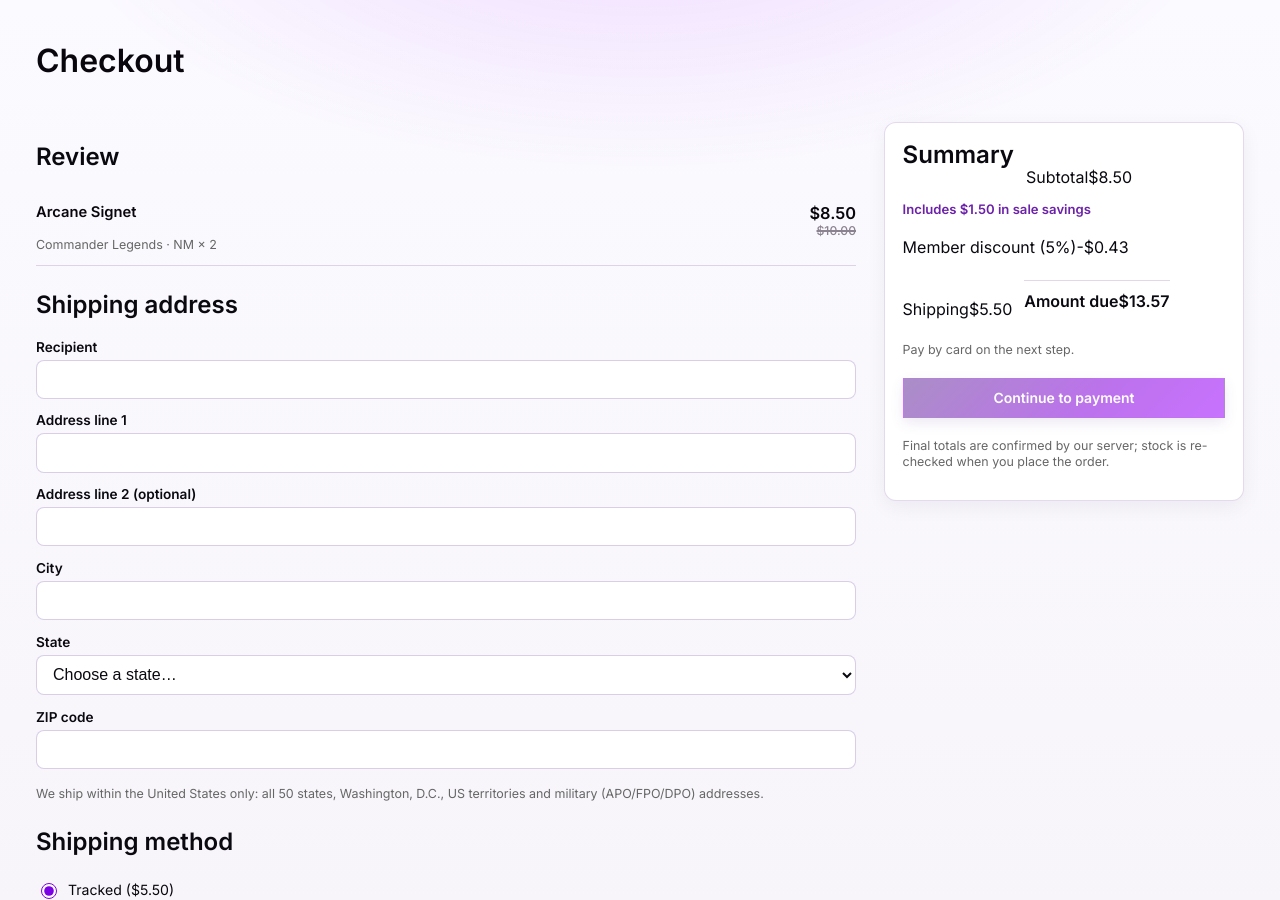
Test: checkout during a storewide sale › speaks up again if the sale deepens while they pay
Type "Jordan Vega" into the field labelled "Recipient".
click(446, 379); type("Jordan Vega")  # box 36,360 -> 856,399
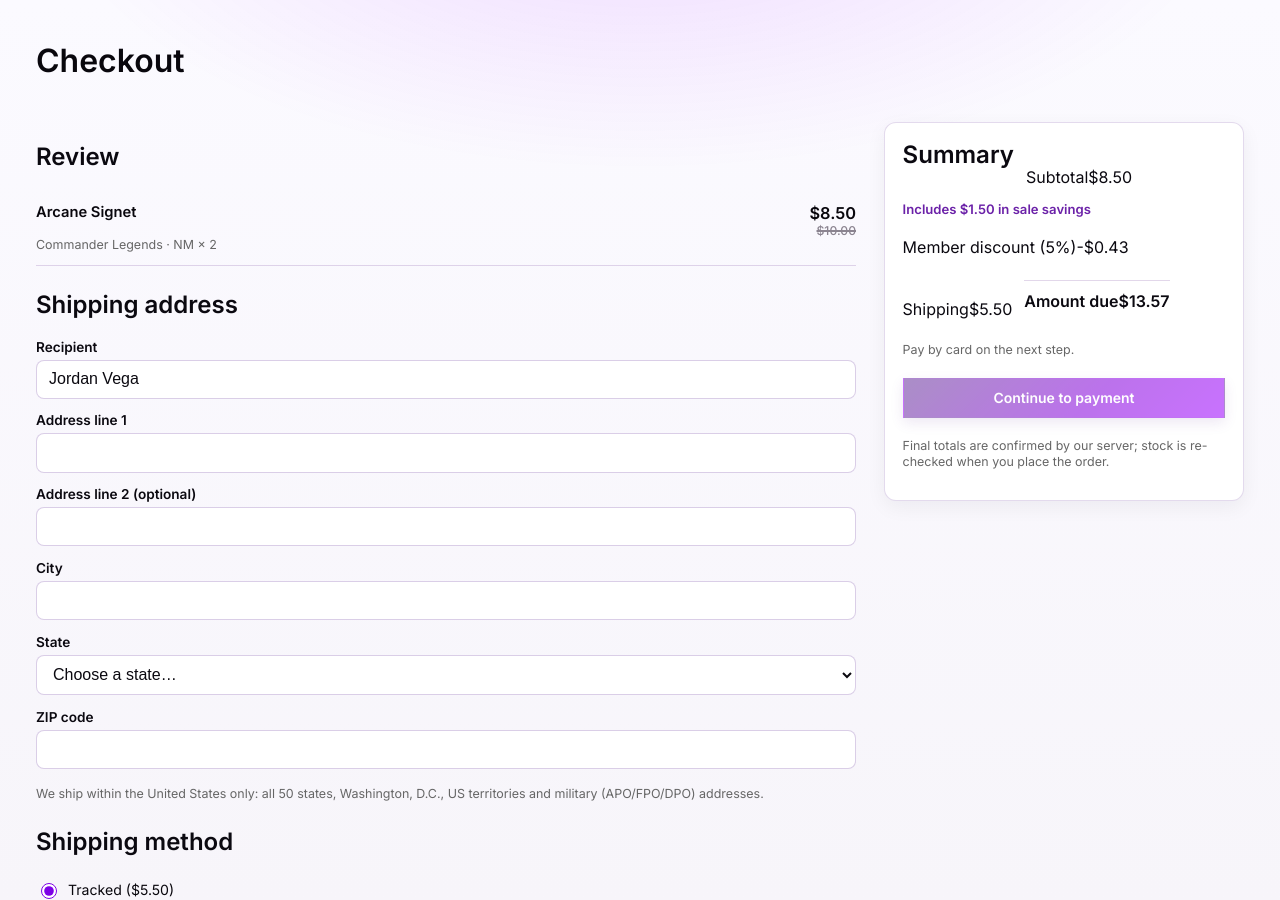
Type "123 Main St" into the field labelled "Address line 1".
click(446, 453); type("123 Main St")  # box 36,433 -> 856,473
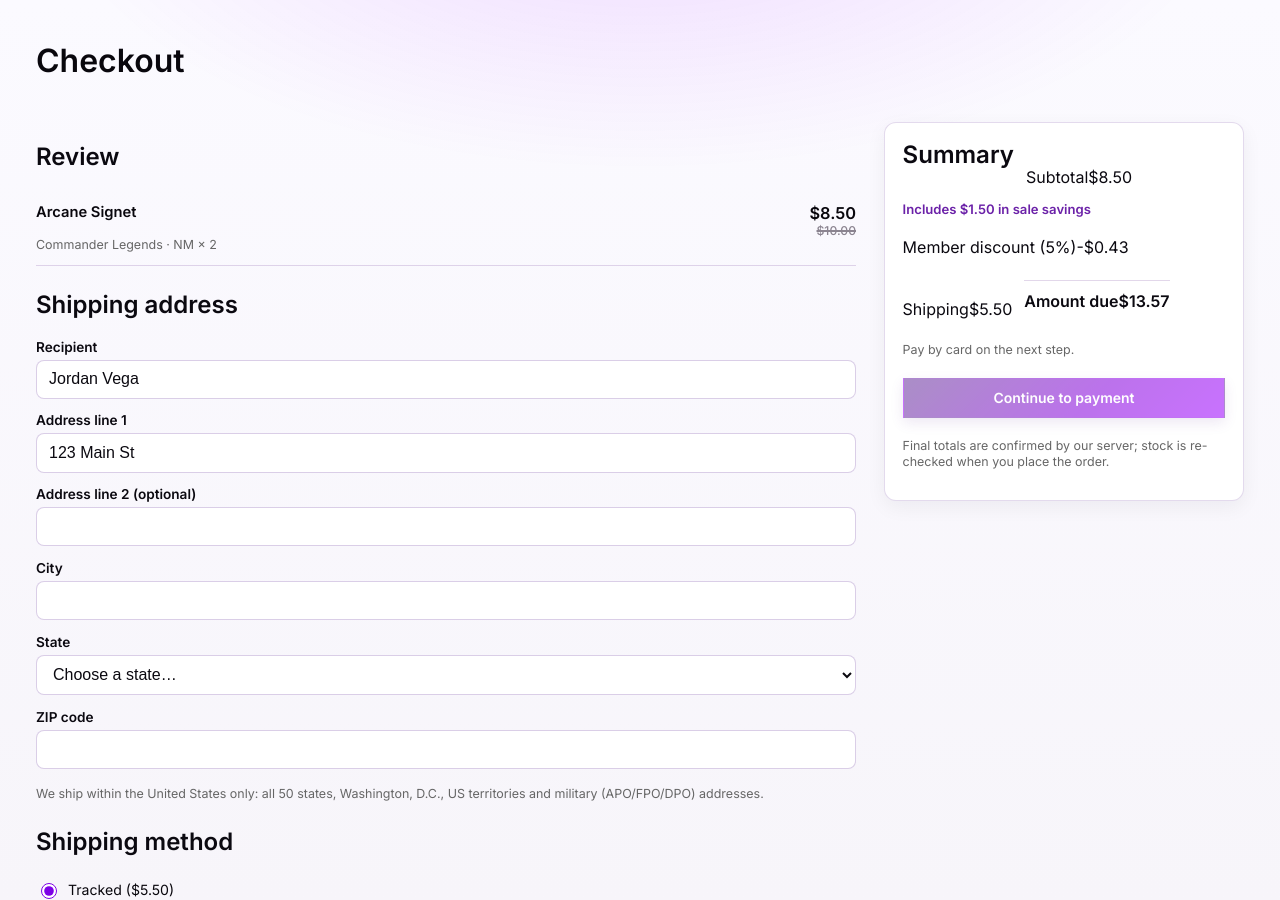
Type "Ballwin" into the field labelled "City".
click(446, 601); type("Ballwin")  # box 36,581 -> 856,620
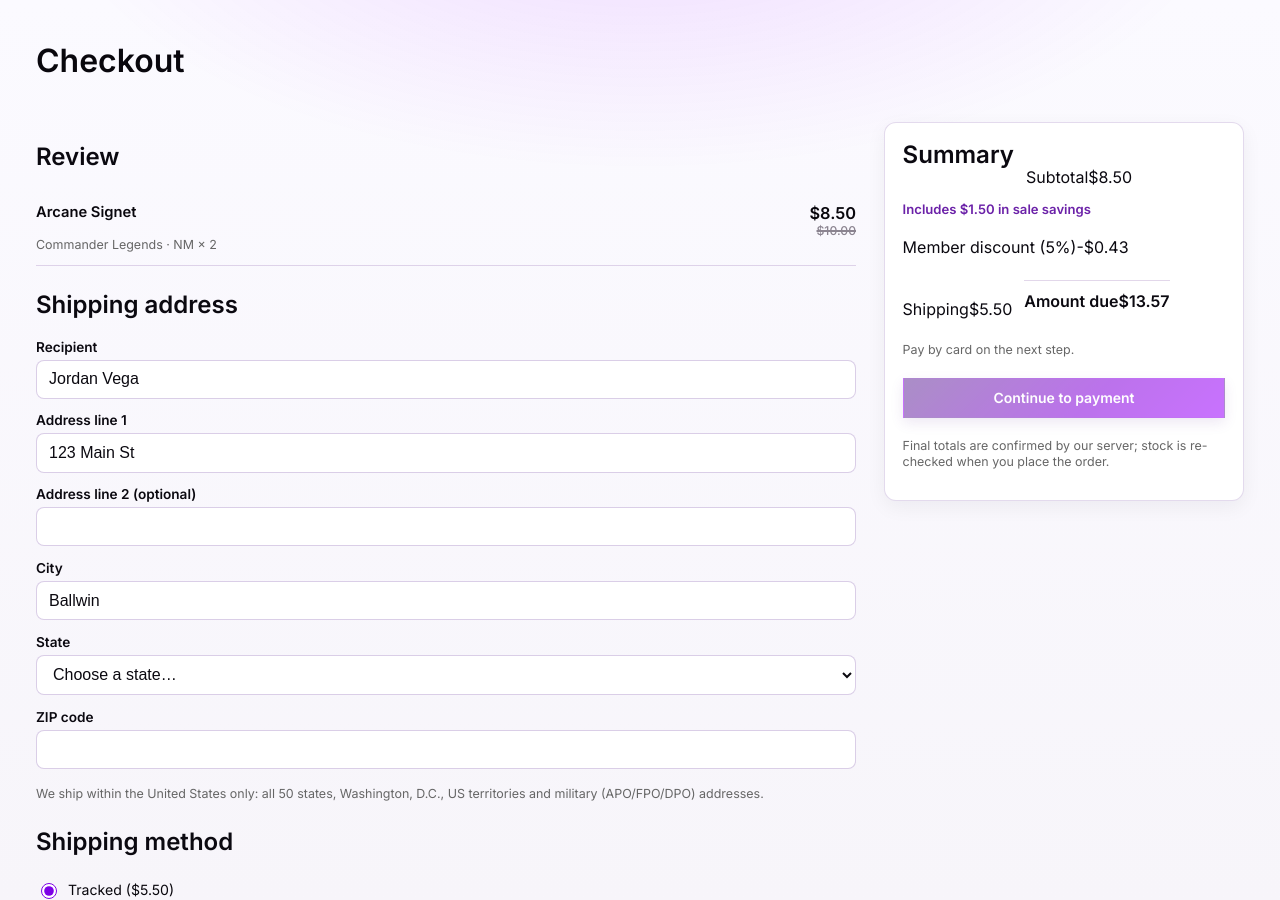
Select "Missouri" in the dropdown labelled "State" at (446,675), box 36,655 -> 856,695
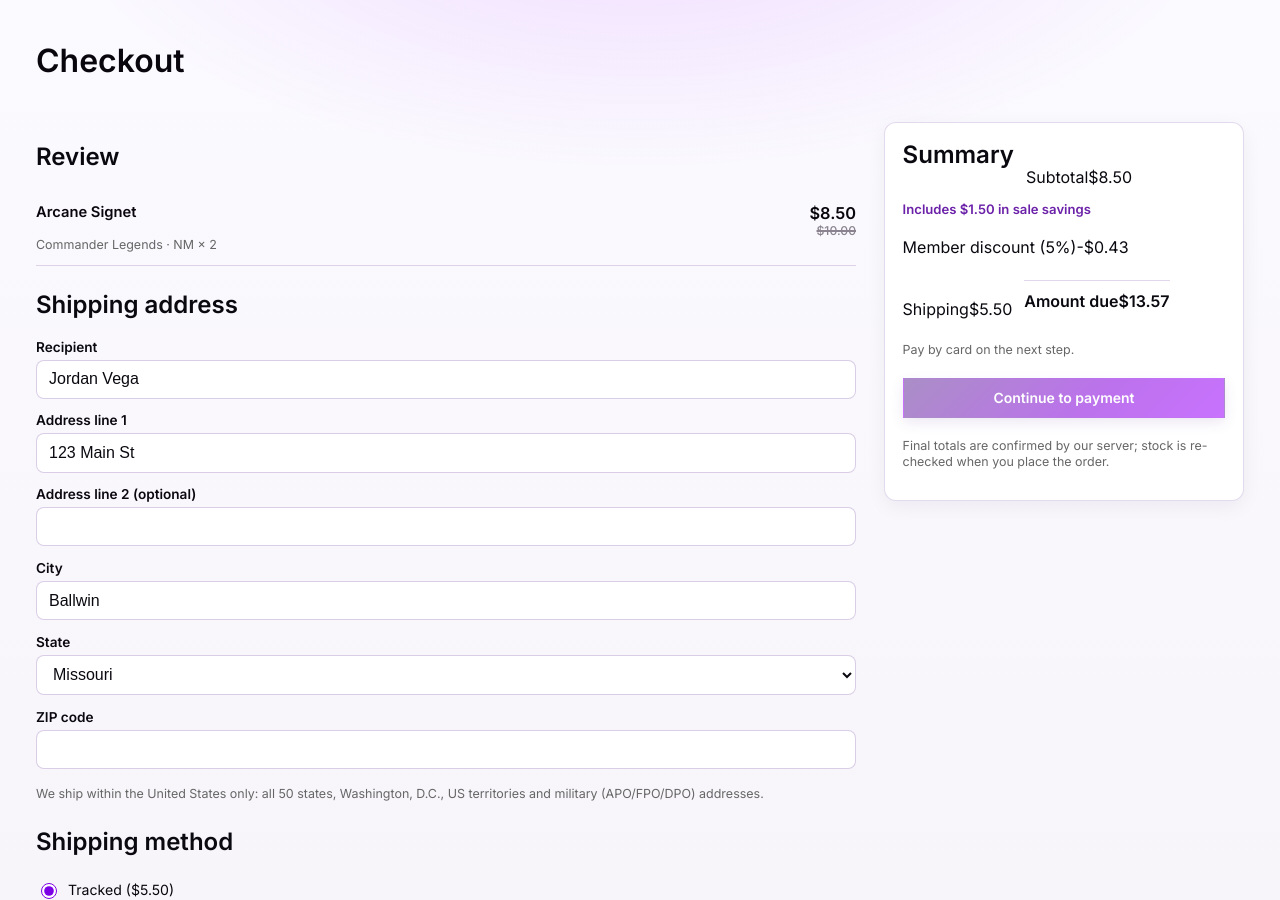
Type "63011" into the field labelled "ZIP code".
click(446, 749); type("63011")  # box 36,730 -> 856,769
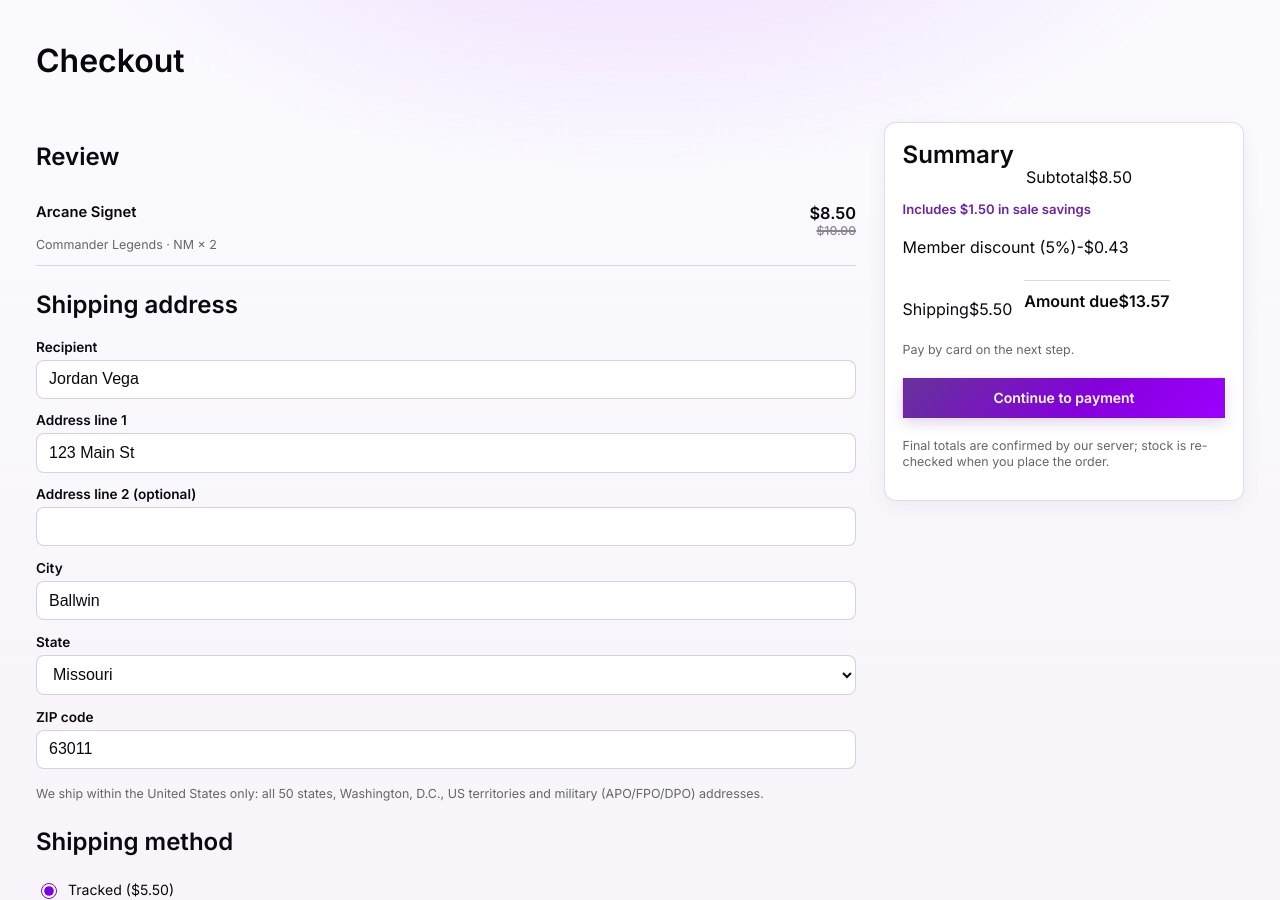
Click the button "Continue to payment".
click(1064, 398)  # box 903,378 -> 1225,418
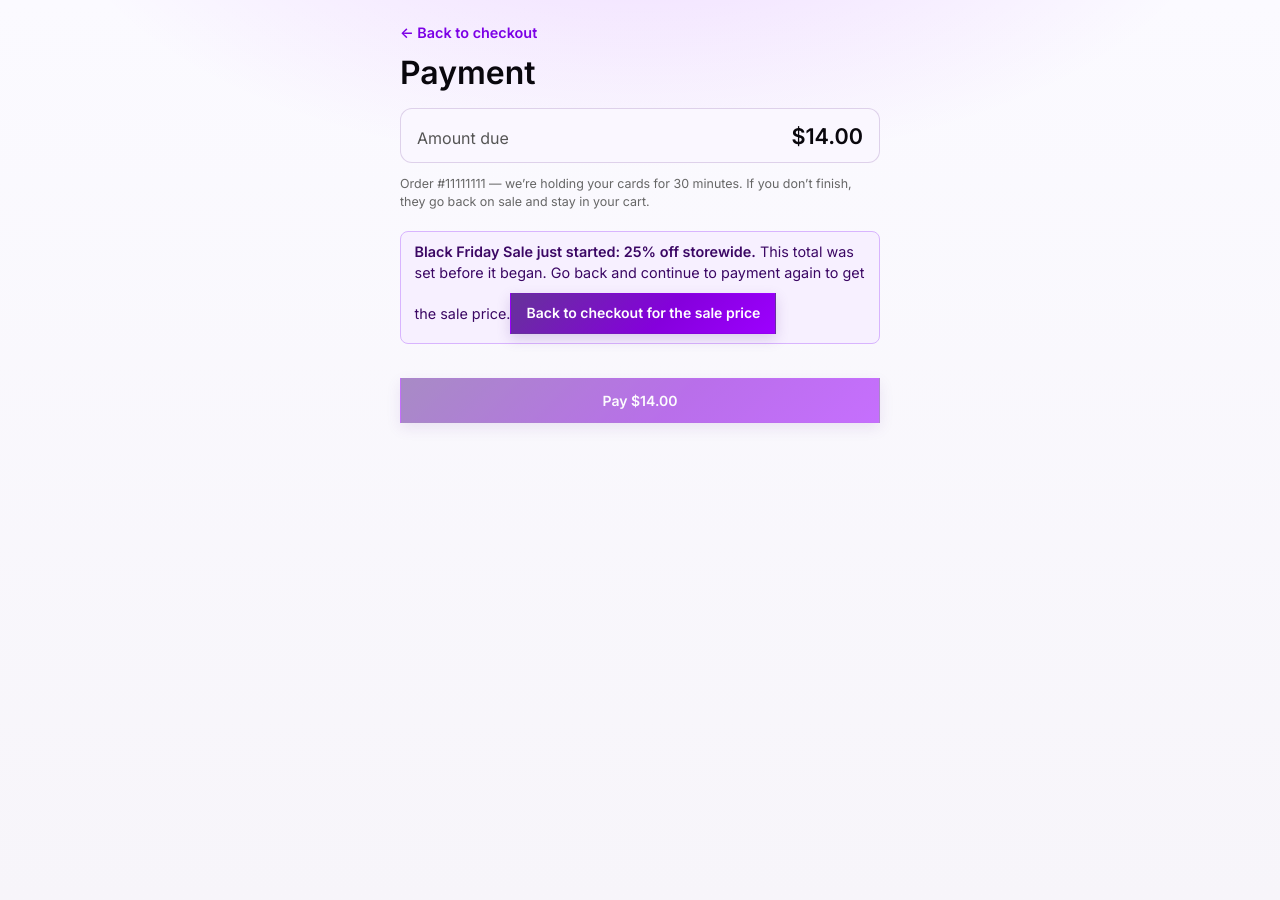
Check: the heading "Payment" is shown, box 400,53 -> 536,92
Check: the text "Black Friday Sale just started: 25% off storewide." is shown, box 415,243 -> 756,260
